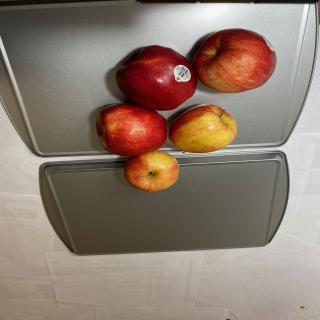Apple: (192, 28, 277, 93), (115, 45, 197, 111), (96, 102, 167, 156), (168, 104, 238, 154), (124, 150, 179, 192)
